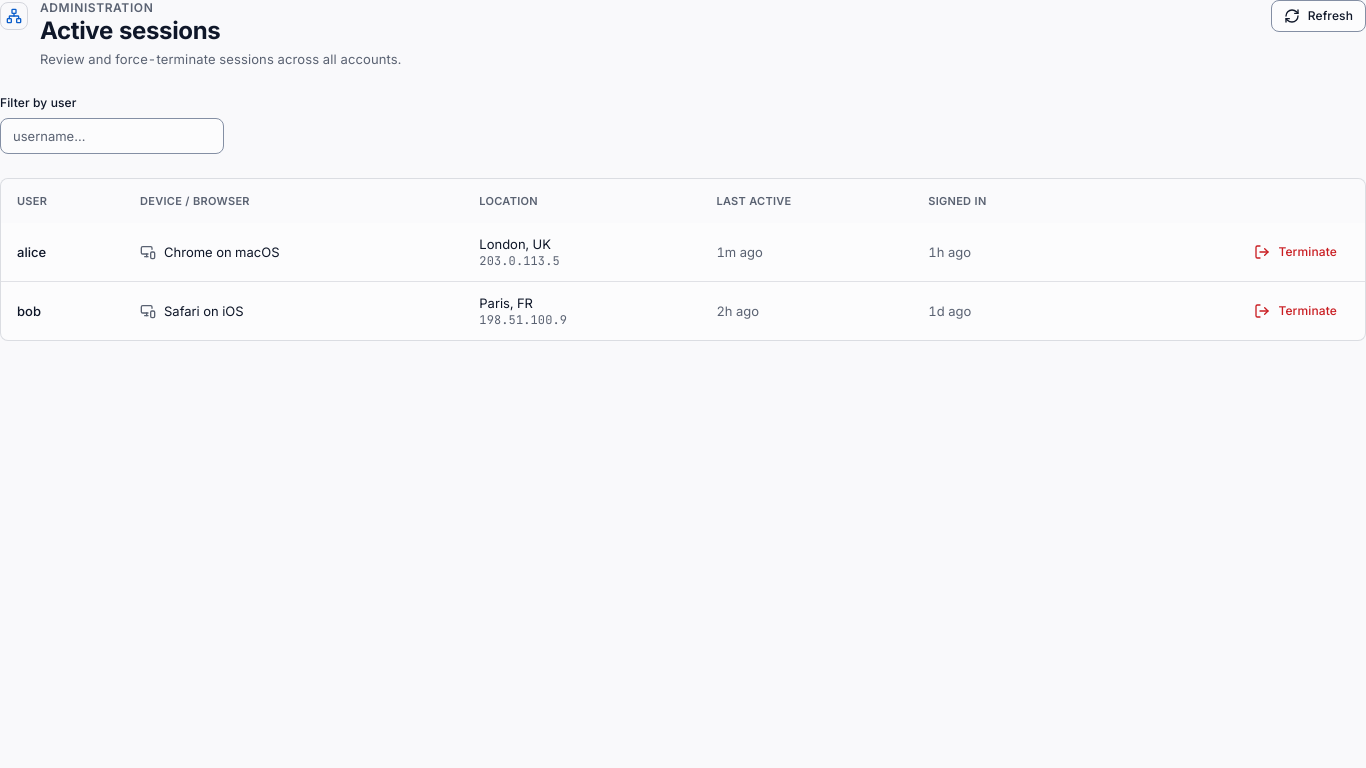
Test: Admin Sessions console › opens the force-terminate confirm dialog from a row
Expected: the text "alice" is shown, [17,244,46,260]
Click the button with aria-label "Terminate session sid-a" at coordinates (1296, 252), box [1242,236,1349,268]
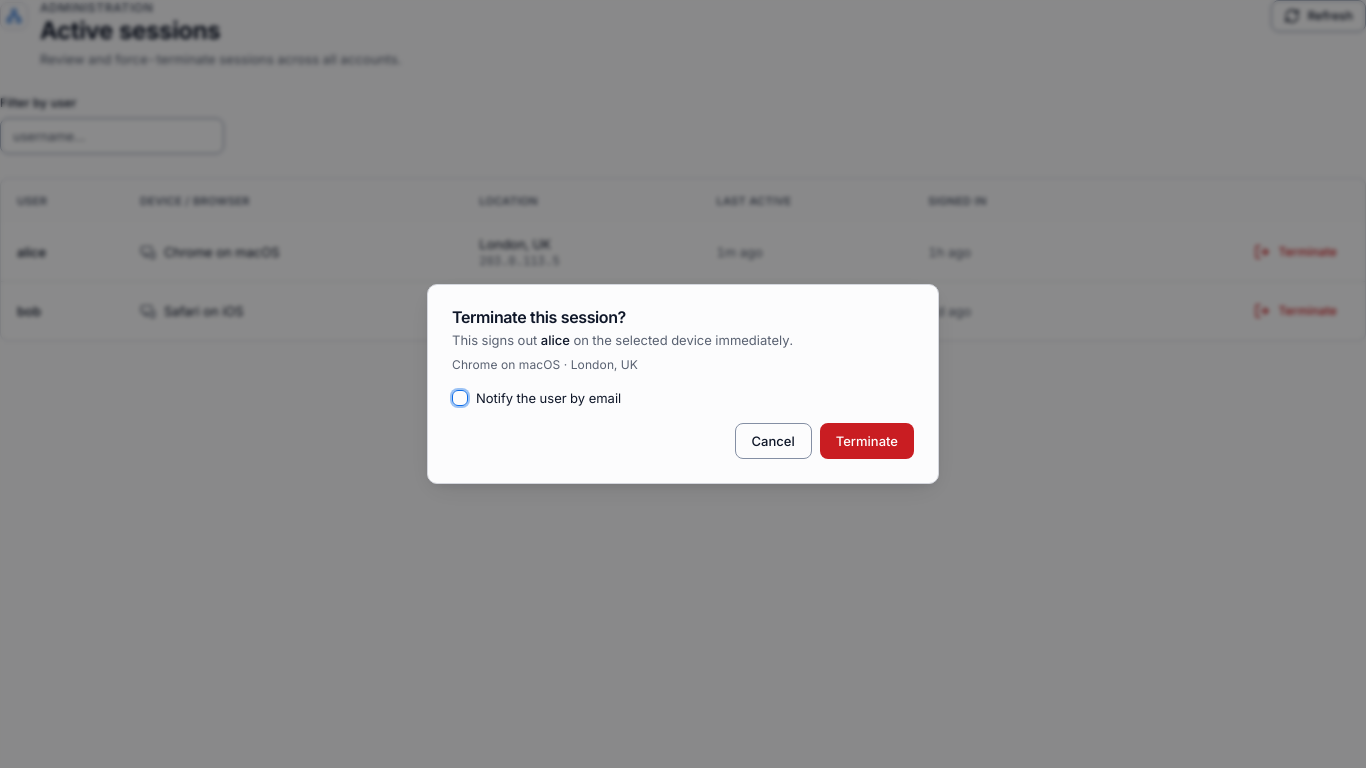
Expected: the heading "Terminate this session?" is shown, [452,307,626,327]
Expected: the checkbox named "Notify the user" is shown, [452,390,468,406]
